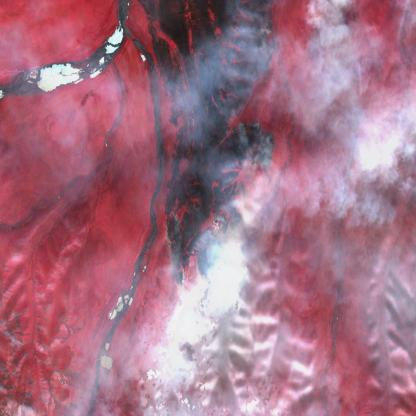fire: (163, 117, 276, 294), (258, 13, 276, 36)
